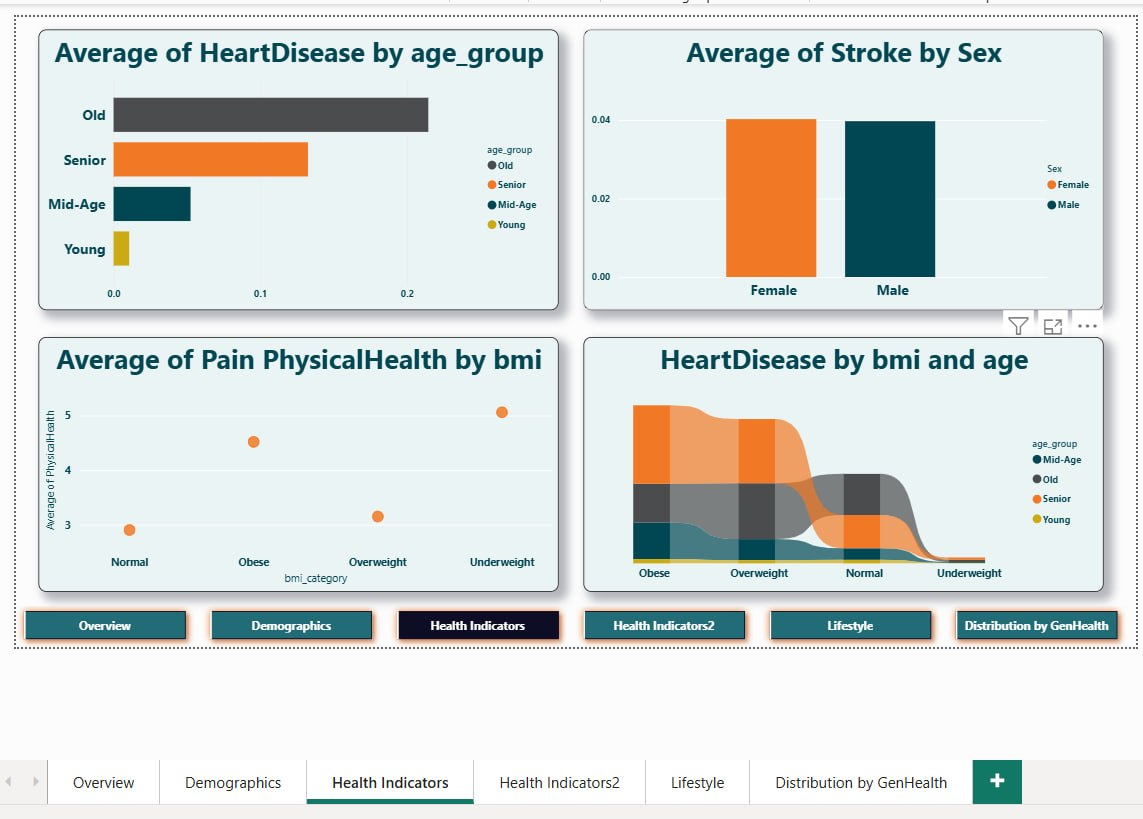

The dashboard page shown, as its layout file describes it:
{"tool":"powerbi","page":{"name":"Health Indicators","canvas":[1280,720],"ordinal":2},"visuals":[{"type":"pageNavigator","box":[0,670,1271.2,50],"z":0},{"type":"barChart","title":"Average of HeartDisease by age_group ","fields":{"Y":["Avg(heart_disease_transformed.HeartDisease)"],"Category":["heart_disease_transformed.age_group"],"Series":["heart_disease_transformed.age_group"]},"box":[26.1,13.7,594.2,321.1],"z":1000},{"type":"columnChart","title":"Average of Stroke by Sex","fields":{"Category":["heart_disease_transformed.Sex"],"Y":["Avg(heart_disease_transformed.Stroke)"],"Series":["heart_disease_transformed.Sex"]},"box":[649.1,13.7,594.2,321.1],"z":2000},{"type":"scatterChart","title":"Average of Pain PhysicalHealth by bmi","fields":{"X":["heart_disease_transformed.bmi_category"],"Y":["Avg(heart_disease_transformed.PhysicalHealth)"]},"box":[26.1,366.4,594.2,290.9],"z":3000},{"type":"ribbonChart","title":"HeartDisease by bmi and age","fields":{"Category":["heart_disease_transformed.bmi_category"],"Y":["Sum(heart_disease_transformed.HeartDisease)"],"Series":["heart_disease_transformed.age_group"]},"box":[649.1,366.4,594.2,290.9],"z":4000}]}

Visuals, with their boxes on the page's 1280x720 design canvas (x1, y1, x2, y2). These are canvas units, not pixel positions in the 1143x819 screenshot, which may show the page scaled, cropped or inside an application window:
pageNavigator: locate(0, 670, 1271, 720)
"Average of HeartDisease by age_group " barChart: locate(26, 14, 620, 335)
"Average of Stroke by Sex" columnChart: locate(649, 14, 1243, 335)
"Average of Pain PhysicalHealth by bmi" scatterChart: locate(26, 366, 620, 657)
"HeartDisease by bmi and age" ribbonChart: locate(649, 366, 1243, 657)
